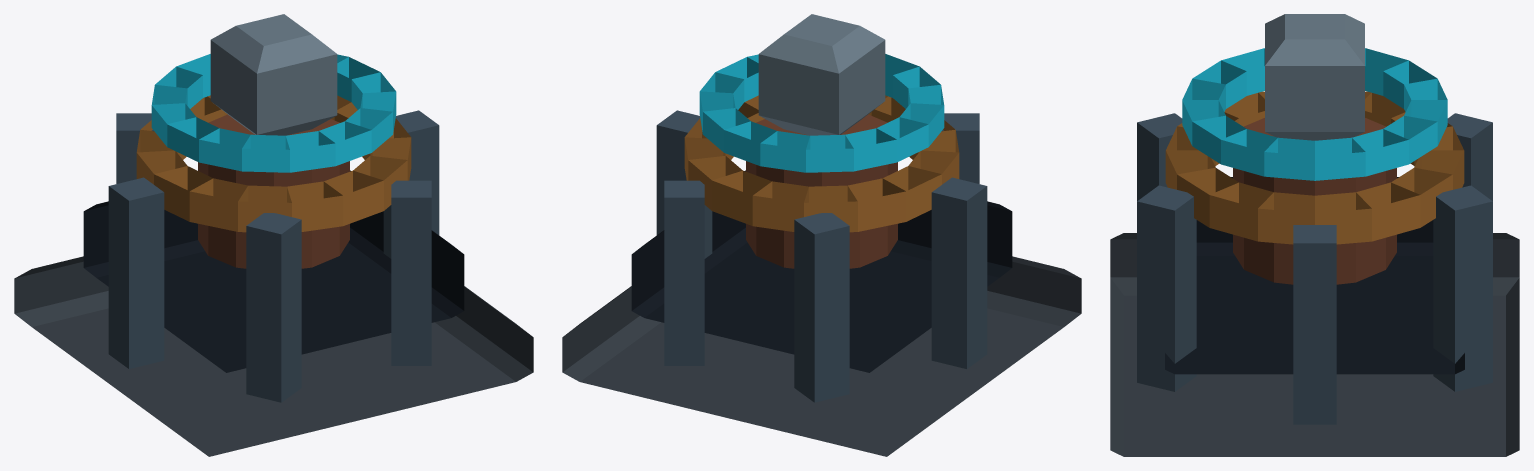
The model's file is reactor_altar.obj.
The picture shows the model from 3 angles, left to right: view 1: azimuth 30°, elevation 25°; view 2: azimuth 150°, elevation 25°; view 3: azimuth 270°, elevation 25°; orthographic projection. The views are drawn at different scales.
Parts seen in each view (by area): view 1: pulse_reactor_sculpture; view 2: pulse_reactor_sculpture; view 3: pulse_reactor_sculpture.
Boxes of the visible parts, x1,y1,x2,y2 form: pulse_reactor_sculpture: (14, 14, 533, 456); pulse_reactor_sculpture: (562, 14, 1081, 456); pulse_reactor_sculpture: (1110, 14, 1519, 456).
Bounding box in the file's own units: 2.25 × 2.12 × 2.25.
